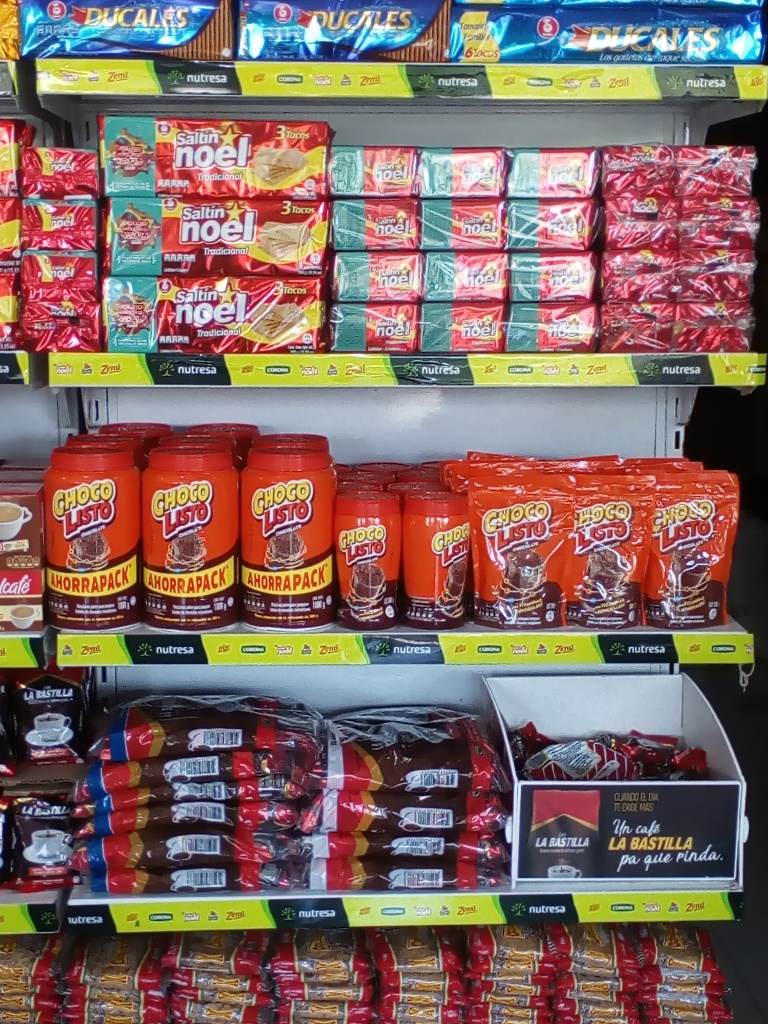COL0170103TRR00100: (36, 445, 145, 631)
